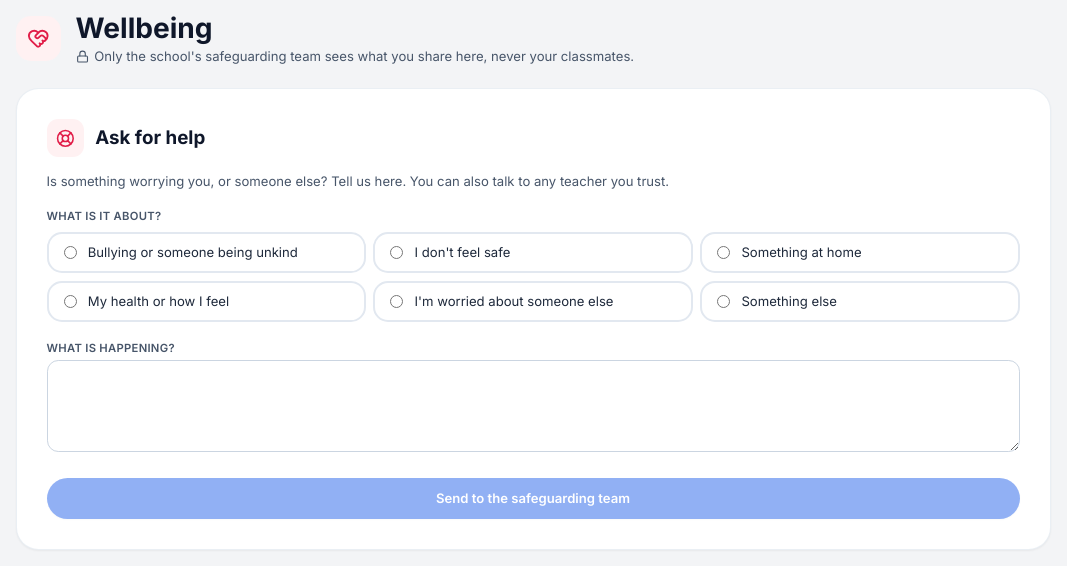
Test: Wellbeing (students) › asks for help, without an outside helpline
The image size is (1067, 566).
Click the radio button labelled "I don't feel safe".
click(397, 253)  # box [390,246,403,259]
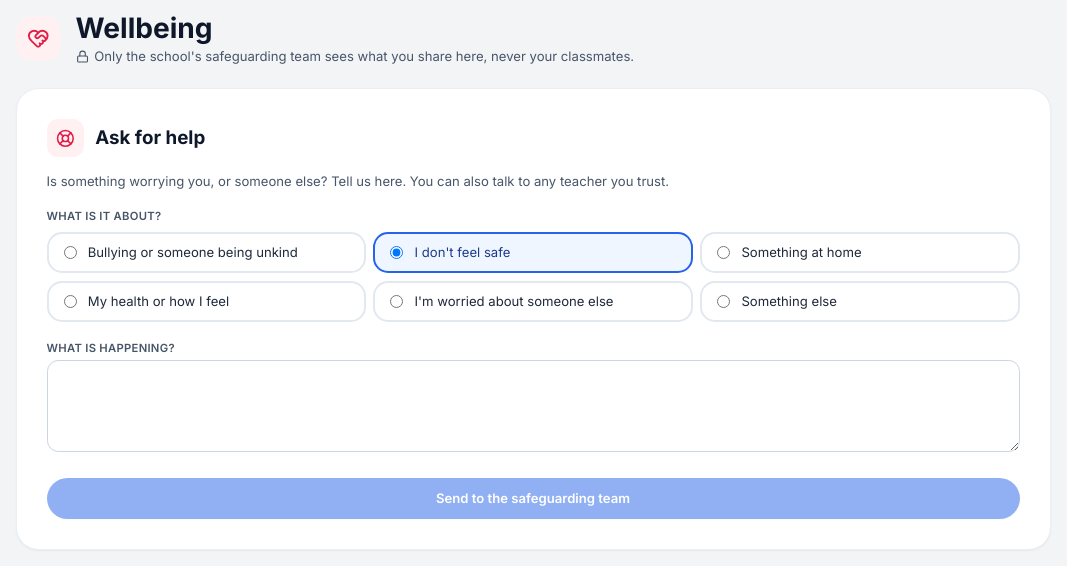
Type "Older students wait for me after school" into the text box labelled "What is happening?".
click(533, 406); type("Older students wait for me after school")  # box [46,360,1020,452]
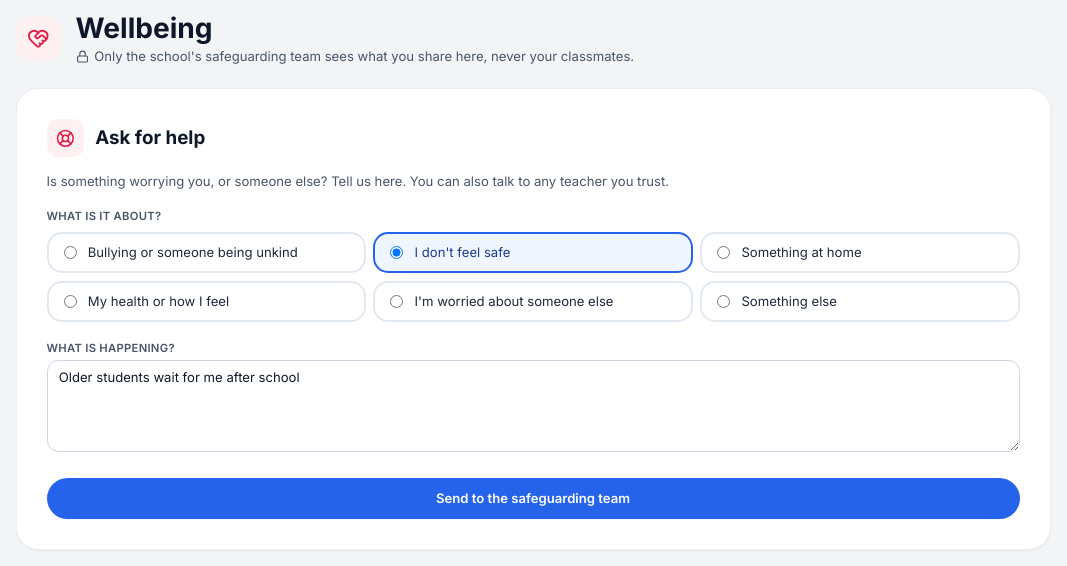
Click the button "Send to the safeguarding team".
click(533, 498)  # box [46,478,1020,519]
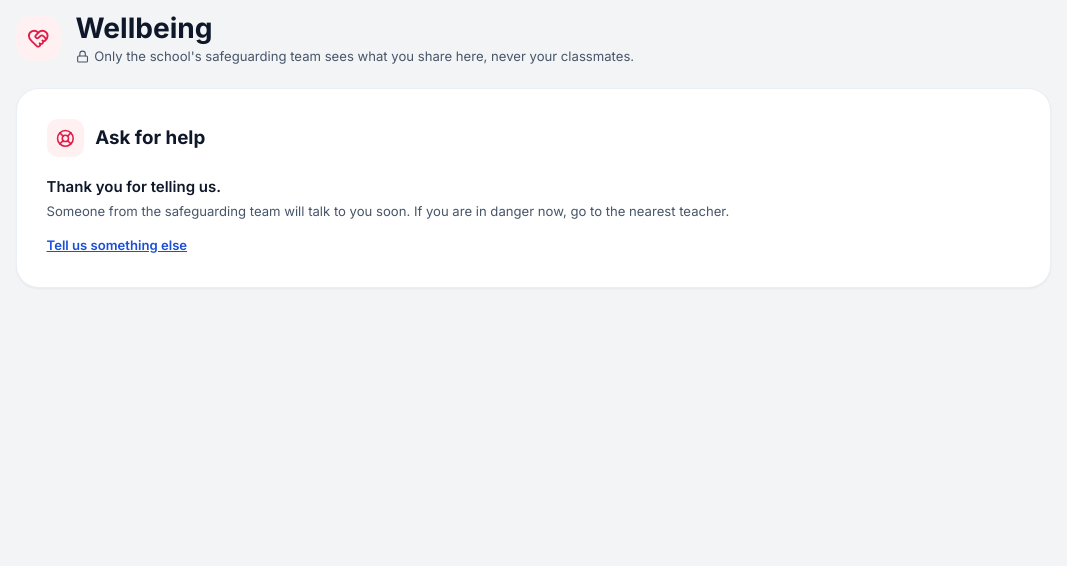
Check: the message with test id "report-sent" shows "Thank you for telling us", box [46,177,221,196]
